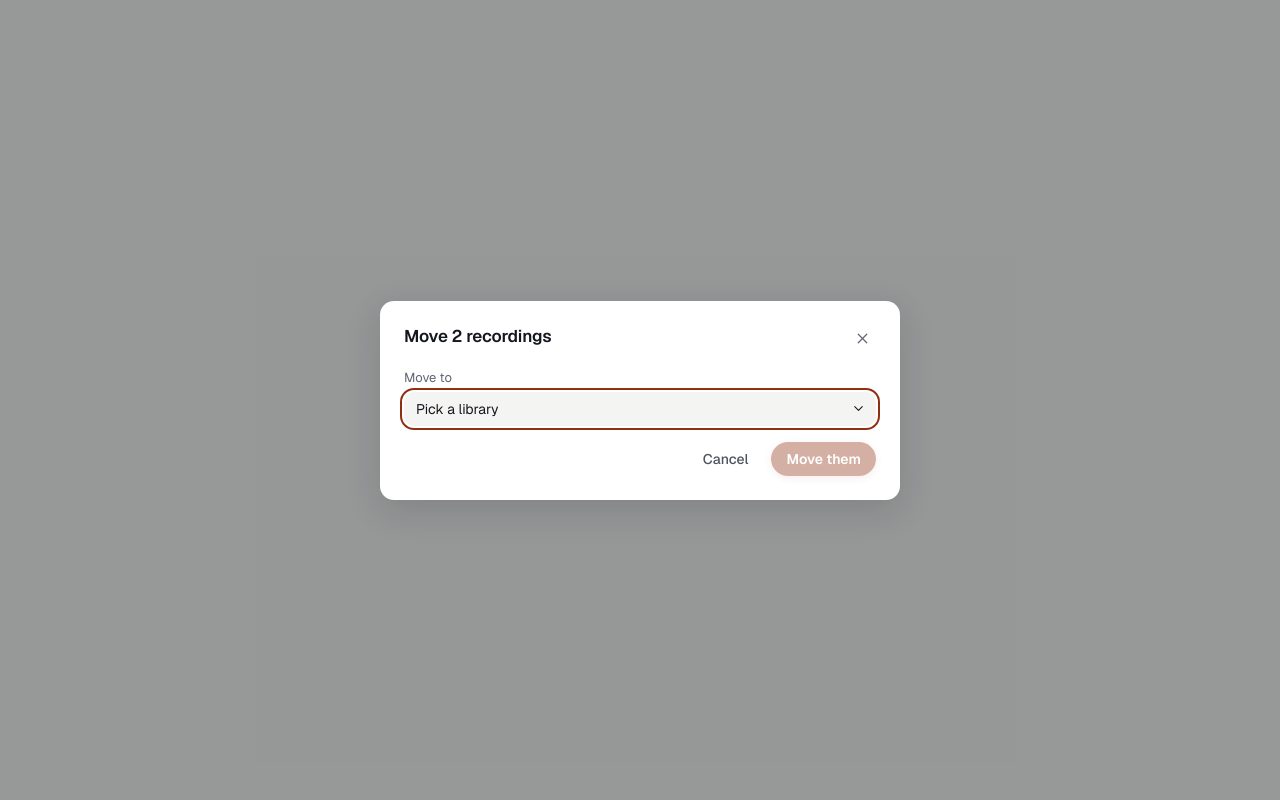
Scenario: a whole selection › states the consequences once for the set rather than per recording
expect the dialog "Move 2 recordings" is shown: met, box [380, 300, 900, 500]
Step 1. Click the dropdown named "Move to" → (457,408), box [404, 392, 876, 426]
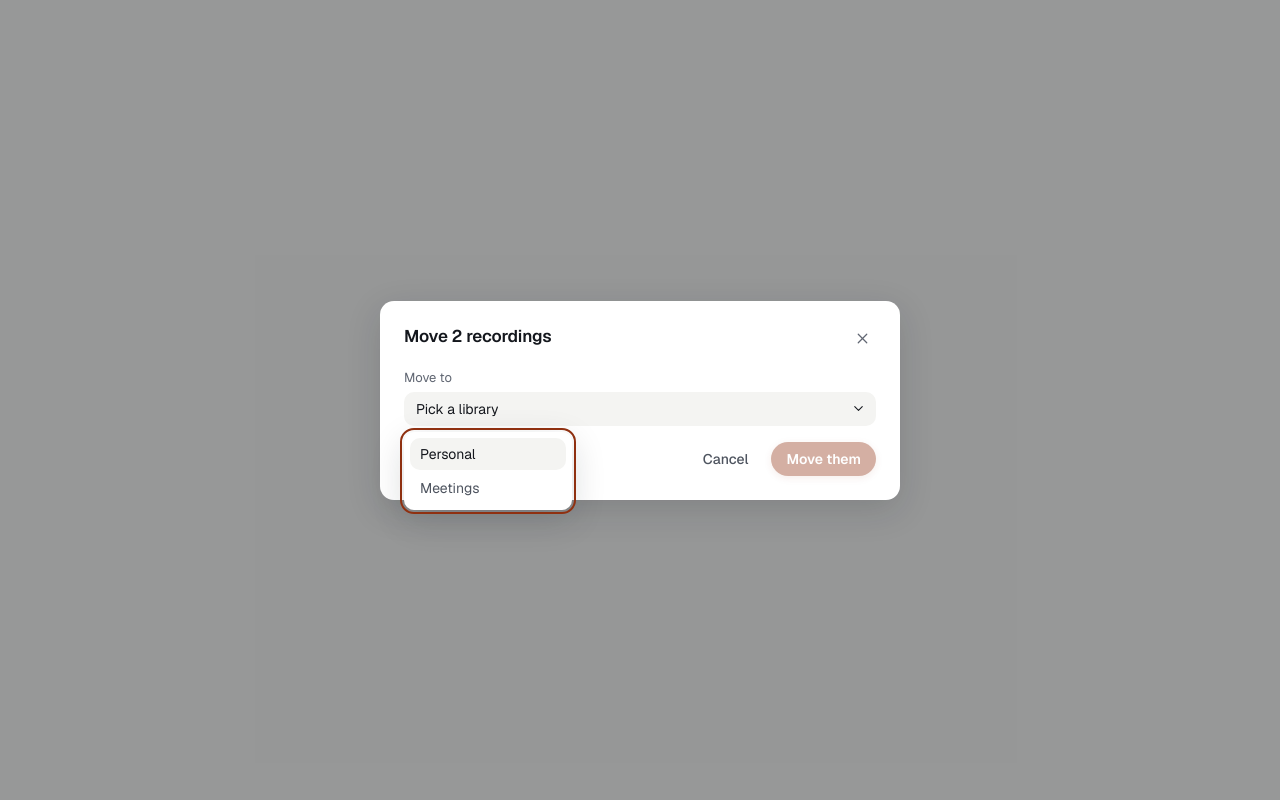
Step 2. Click the option "Personal" → (488,454), box [410, 438, 566, 470]
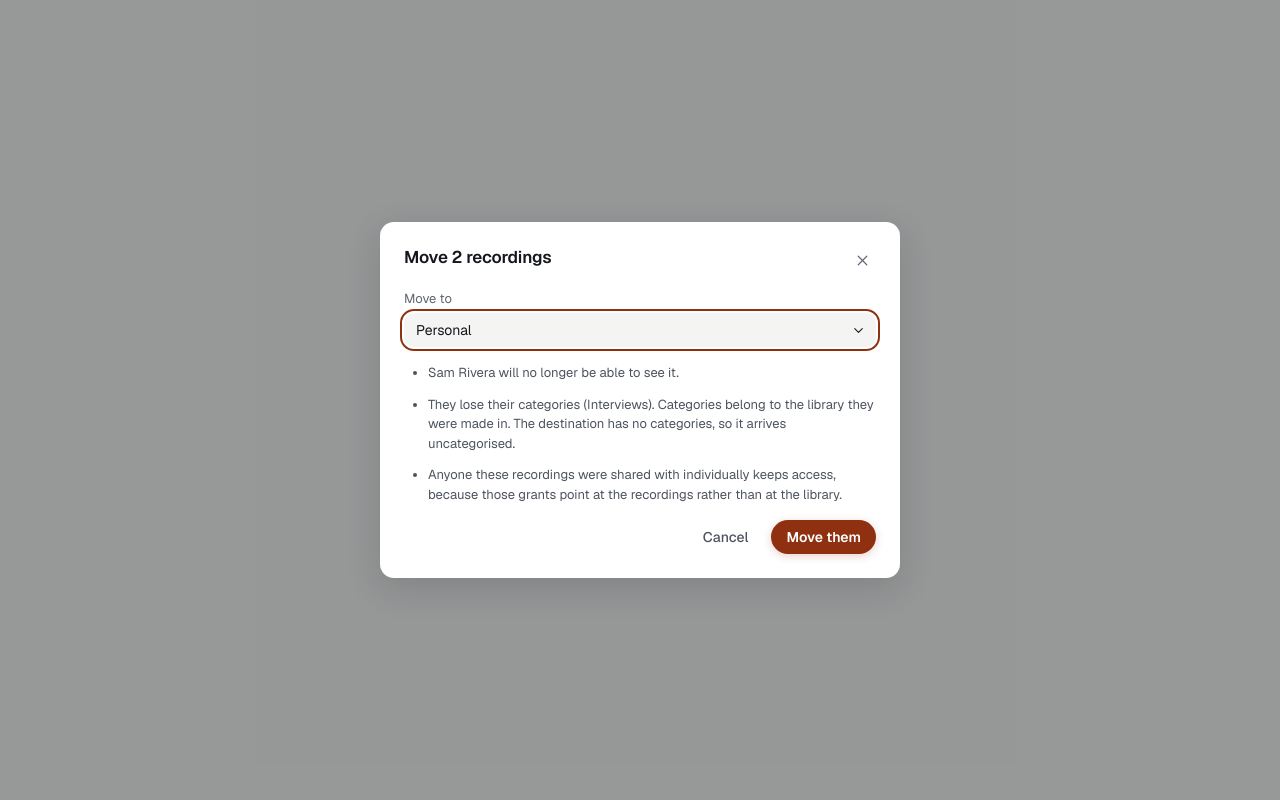
expect the list item "They lose their categories (Interviews)" is shown: met, box [428, 396, 874, 432]
